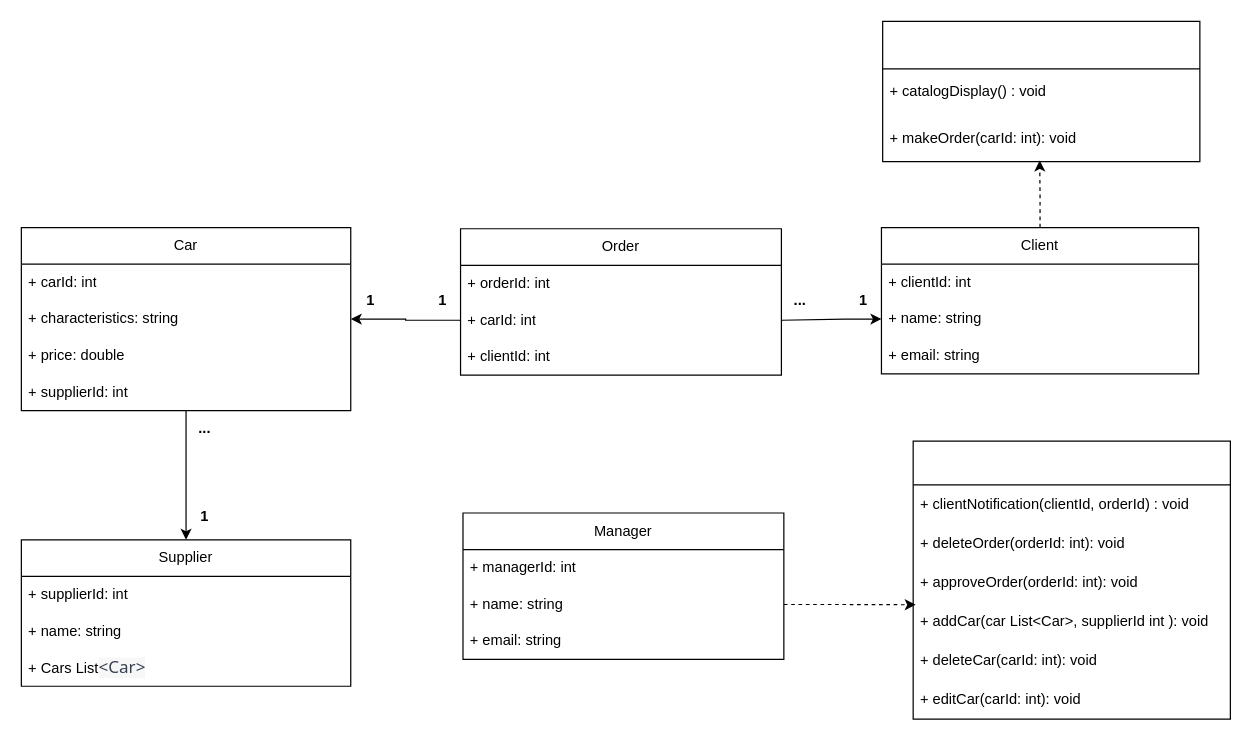
Some shapes in this 1252 by 741 pixel diagram are drawn without their labels. Here are the shapes that lost their labels. From the top down, the box of each, then its label:
(881, 20, 1200, 162): <<interface>> ClientEvent
(912, 440, 1230, 719): <<interface>> ManagerEvent
